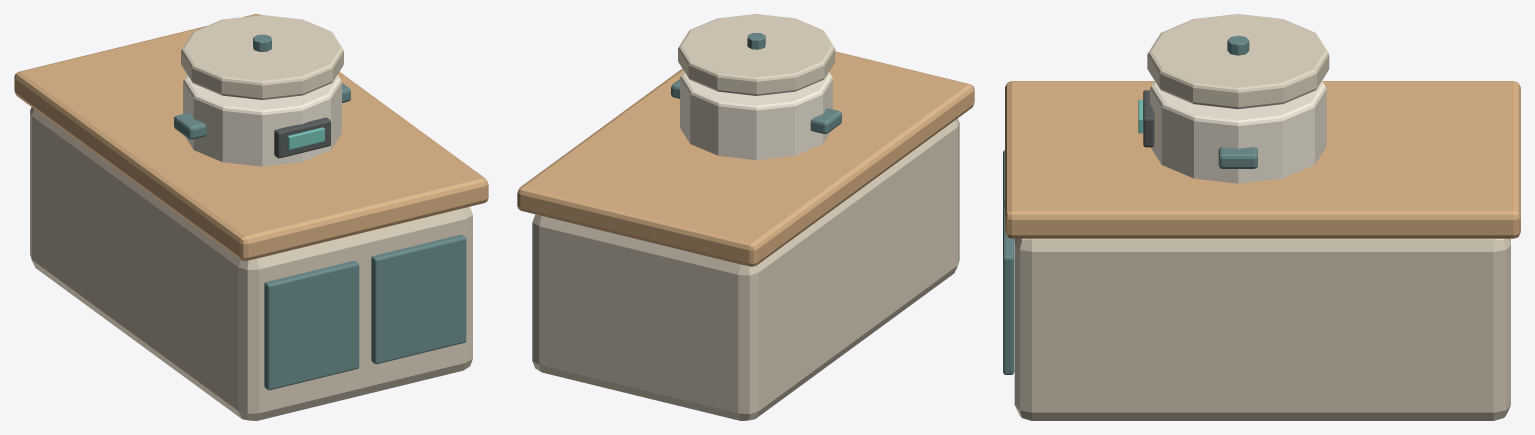
Rendered from cooker.glb.
3 views of the same model, side by side, from view 1: azimuth 30°, elevation 25°; view 2: azimuth 150°, elevation 25°; view 3: azimuth 270°, elevation 25° (orthographic). The views are drawn at different scales.
Visible parts, largest first — view 1: cookerCabinet, cookerCounterTop, lid, cookerDoorL, cookerDoorR, cookerBody, cookerFace, cookerHandle, cookerScreen; view 2: cookerCabinet, cookerCounterTop, lid, cookerBody, cookerHandle; view 3: cookerCabinet, cookerCounterTop, lid, cookerBody, cookerDoorR, cookerHandle.001, cookerFace.
Part boxes in pixels (left/top/right/bottom): cookerCabinet: left=30, top=107, right=472, bottom=420; cookerCounterTop: left=14, top=14, right=488, bottom=260; lid: left=181, top=15, right=343, bottom=99; cookerDoorL: left=264, top=261, right=359, bottom=390; cookerDoorR: left=371, top=234, right=466, bottom=364; cookerBody: left=183, top=75, right=341, bottom=166; cookerFace: left=274, top=117, right=330, bottom=158; cookerHandle: left=174, top=112, right=206, bottom=139; cookerScreen: left=287, top=127, right=324, bottom=149; cookerCabinet: left=532, top=118, right=959, bottom=420; cookerCounterTop: left=517, top=51, right=974, bottom=266; lid: left=678, top=14, right=835, bottom=95; cookerBody: left=680, top=71, right=832, bottom=160; cookerHandle: left=810, top=108, right=841, bottom=133; cookerCabinet: left=1014, top=238, right=1510, bottom=420; cookerCounterTop: left=1005, top=81, right=1520, bottom=238; lid: left=1147, top=14, right=1329, bottom=109; cookerBody: left=1150, top=81, right=1326, bottom=183; cookerDoorR: left=1003, top=208, right=1014, bottom=374; cookerHandle.001: left=1218, top=147, right=1257, bottom=168; cookerFace: left=1143, top=90, right=1154, bottom=147.
Size of the model in its own units: 1.3 by 1.45 by 2.1.
